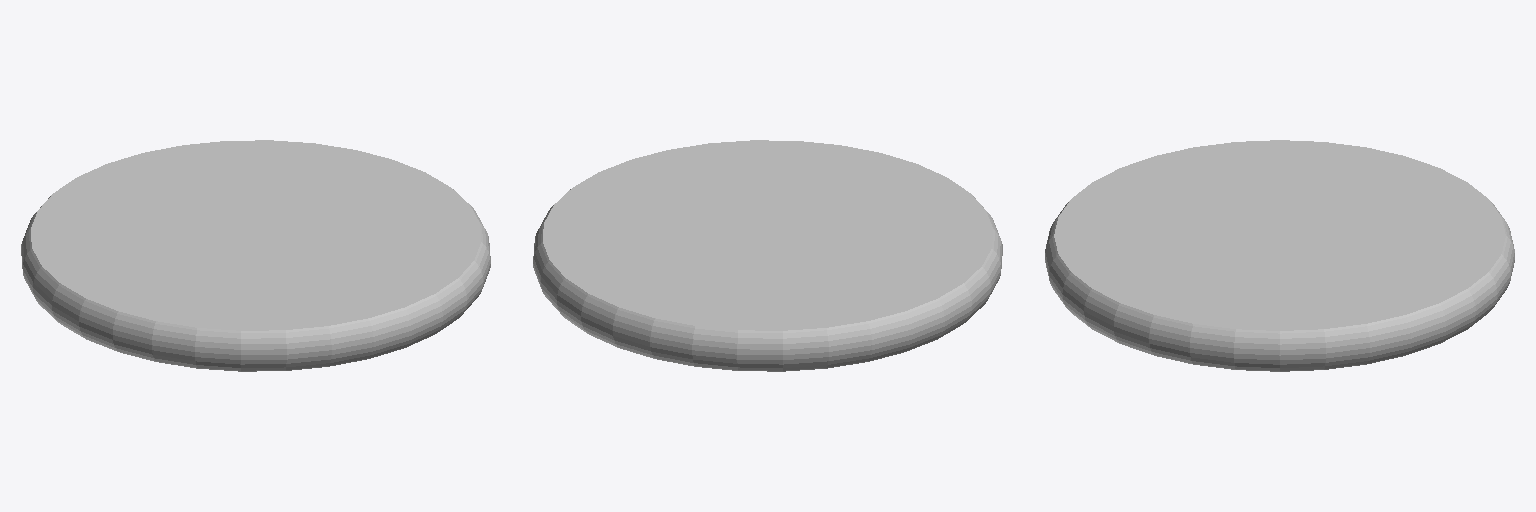
Rendered from Cojin.obj.
3 renders of one model, left to right at view 1: azimuth 30°, elevation 25°; view 2: azimuth 150°, elevation 25°; view 3: azimuth 270°, elevation 25°, orthographic.
Visible parts, largest first — view 1: Circle; view 2: Circle; view 3: Circle.
Part boxes in pixels (x1,y1,x2,y2): Circle: (21,140,490,371); Circle: (533,140,1002,371); Circle: (1045,140,1514,371).
Bounding box in the file's own units: 2.08 × 0.1994 × 2.08.